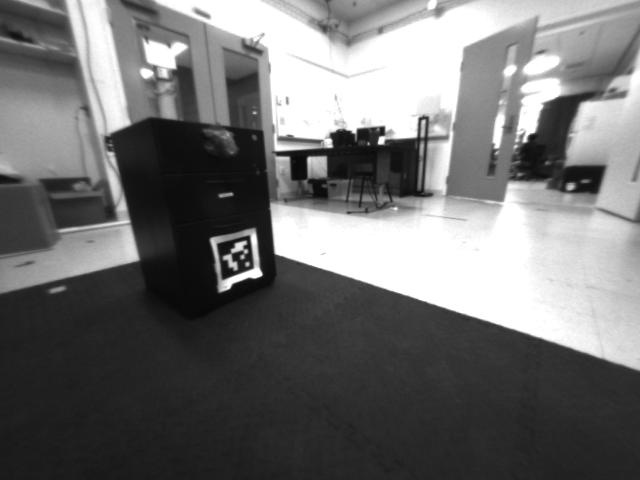drawer: (190, 126, 243, 162)
